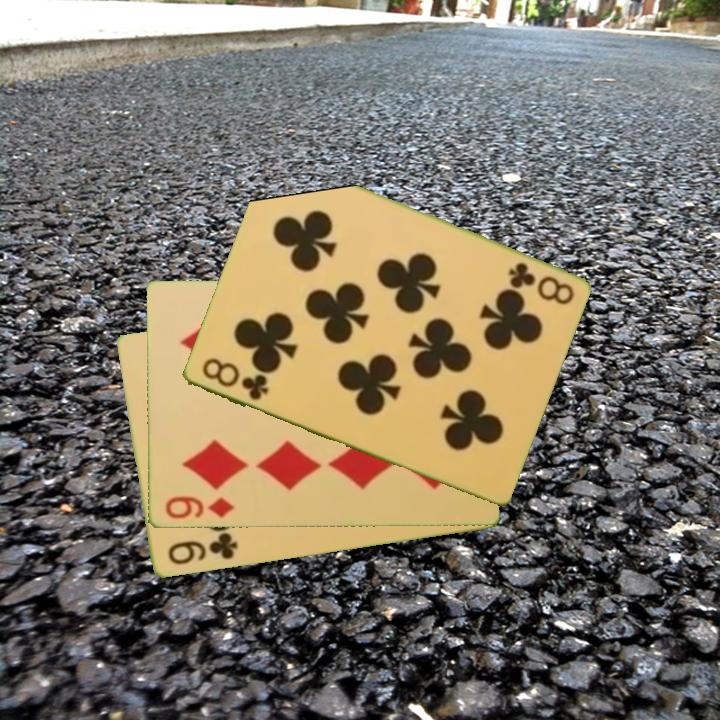8c: (198, 354, 271, 404), (504, 258, 577, 308)
9c: (164, 530, 241, 568)
9d: (161, 493, 237, 522)
